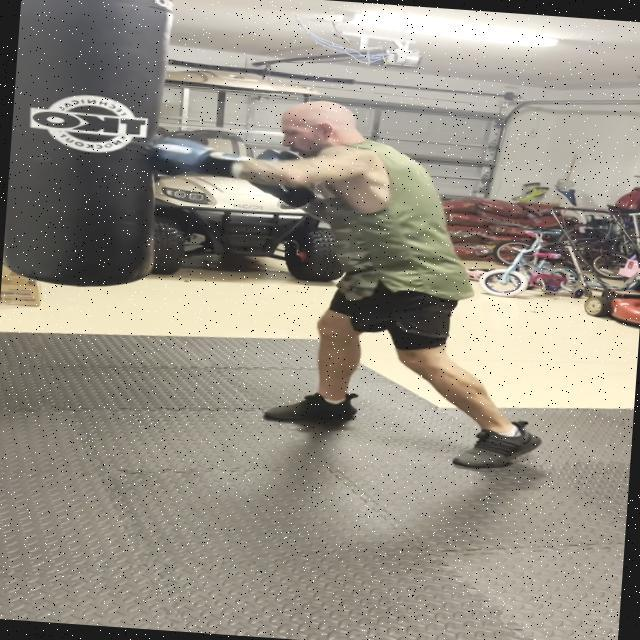bag: (1, 0, 189, 304)
cross: (107, 74, 450, 240)
